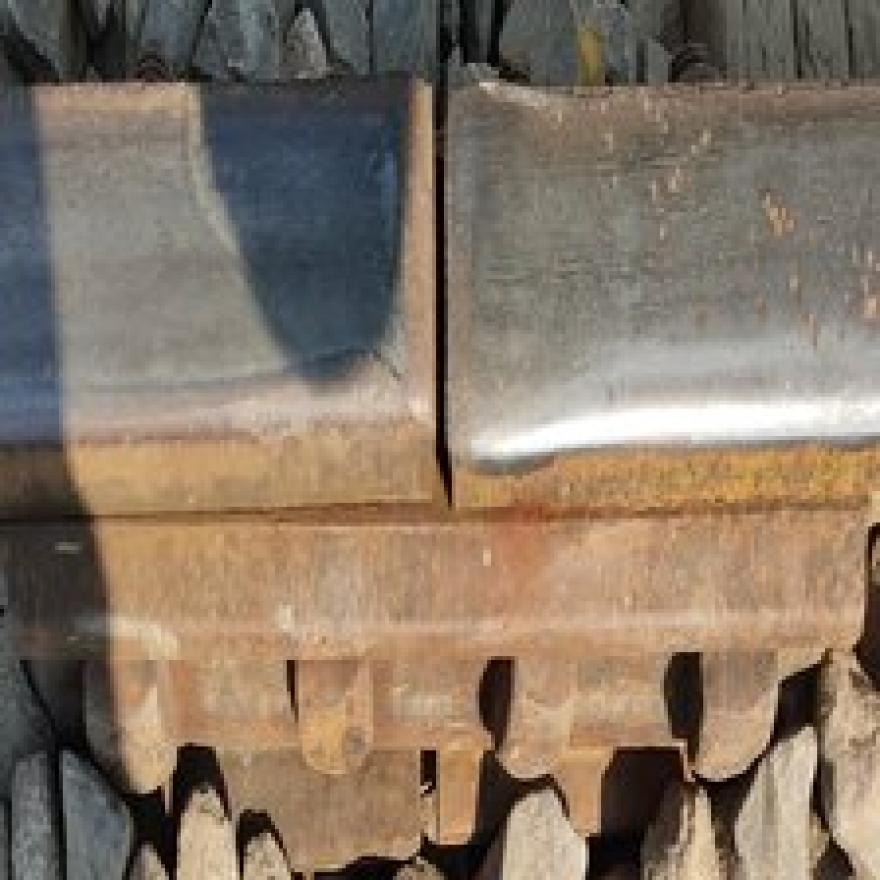railway-gap: (102, 0, 774, 589)
